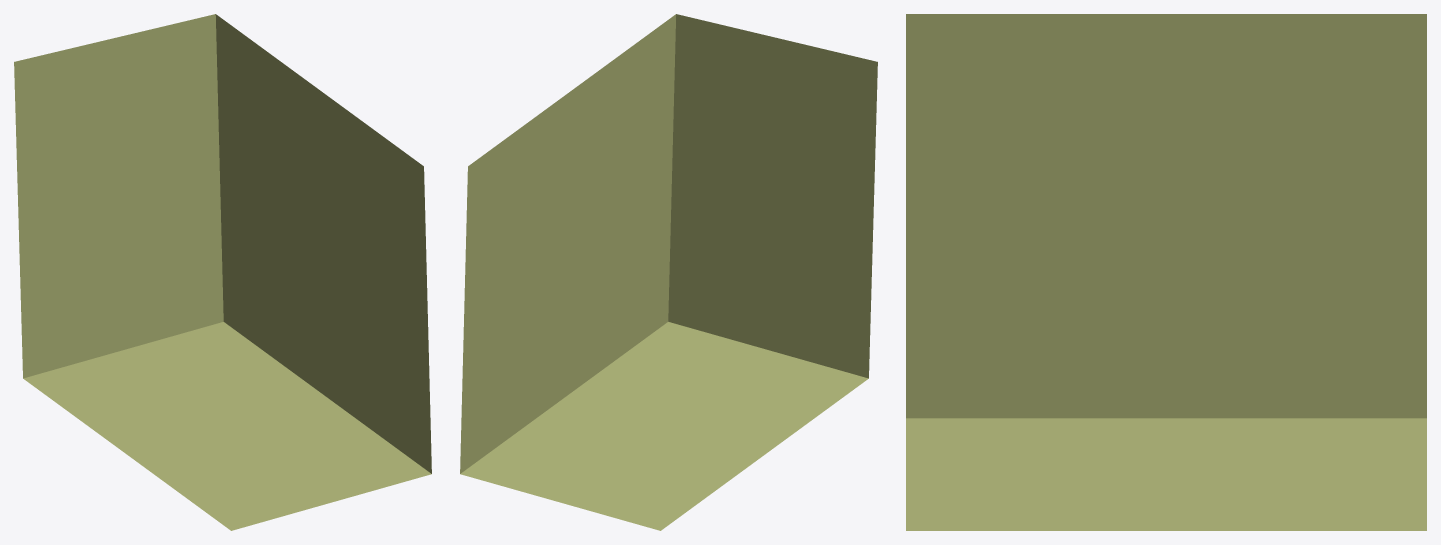
The picture shows the model from 3 angles, left to right: view 1: azimuth 30°, elevation 25°; view 2: azimuth 150°, elevation 25°; view 3: azimuth 270°, elevation 25°; orthographic projection. The views are drawn at different scales.
Visible parts, largest first — view 1: 0_2_0_1_1_2_1_2_2_0_3; view 2: 0_2_0_1_1_2_1_2_2_0_3; view 3: 0_2_0_1_1_2_1_2_2_0_3.
Boxes of the visible parts, x1,y1,x2,y2 form: 0_2_0_1_1_2_1_2_2_0_3: (14, 14, 431, 530); 0_2_0_1_1_2_1_2_2_0_3: (460, 14, 877, 530); 0_2_0_1_1_2_1_2_2_0_3: (906, 14, 1426, 530).
Size of the model in its own units: 5.23 by 7.6 by 9.
